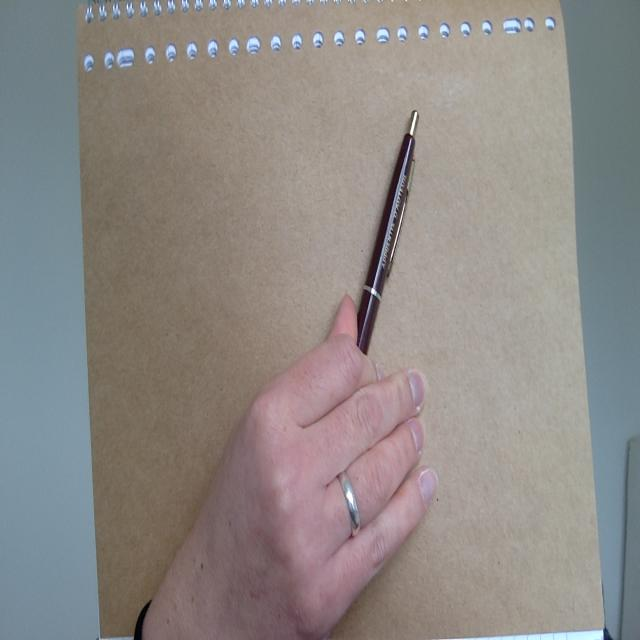pen: (343, 96, 428, 357)
